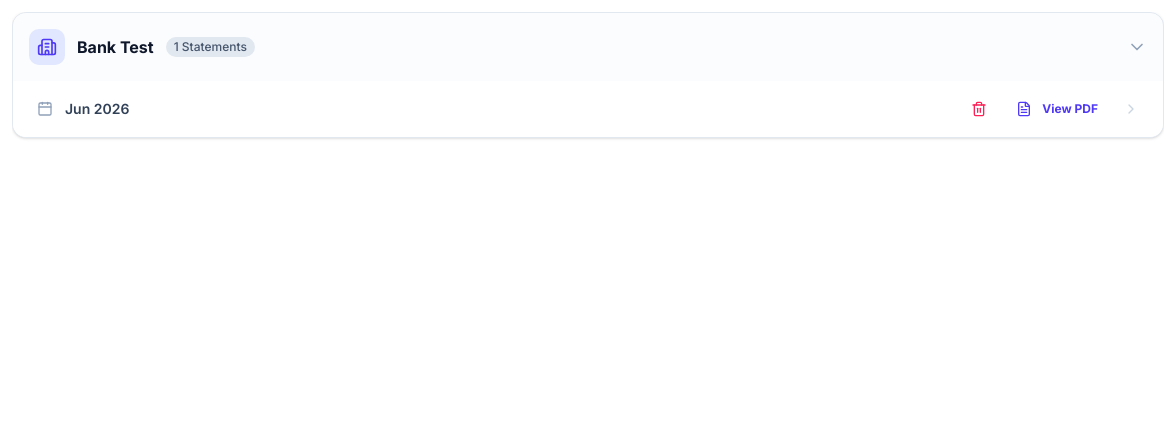
Scenario: BankStatementList Component › shows income and expense items correctly
Expected: the text "Jun 2026" is shown, [65,99,129,119]
Click the button "Jun 2026" at (97, 108), box [37,99,963,119]
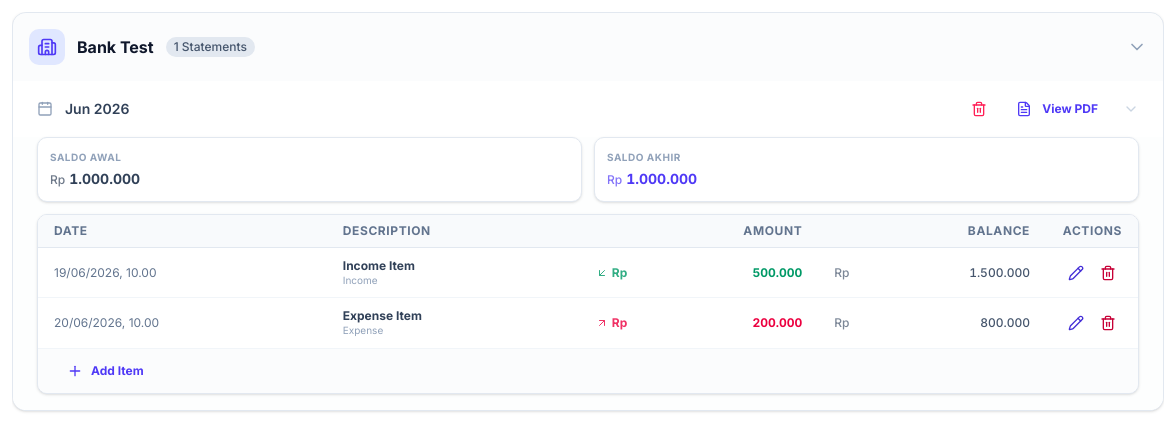
Expected: the text "Income Item" is shown, [343,258,415,273]
Expected: the text "Expense Item" is shown, [343,308,422,323]
